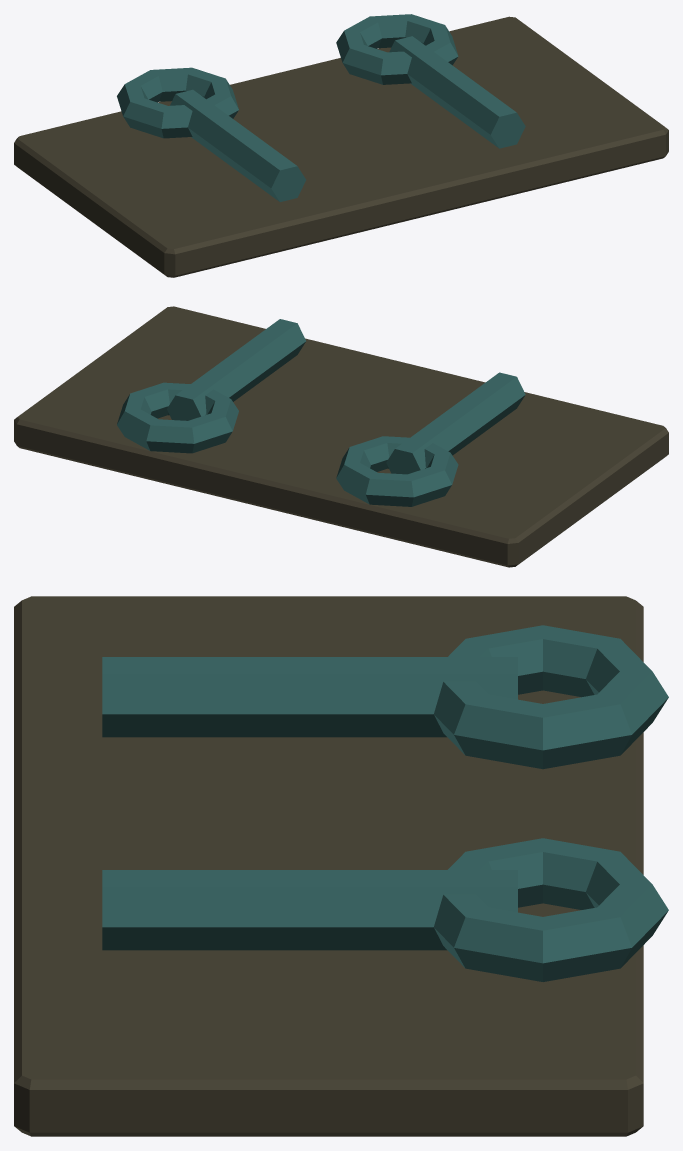
The model's file is repair-tools.glb.
3 renders of one model, top to bottom at view 1: azimuth 30°, elevation 25°; view 2: azimuth 150°, elevation 25°; view 3: azimuth 270°, elevation 25°, orthographic. The views are drawn at different scales.
Parts seen in each view (by area): view 1: repair-tools__body; view 2: repair-tools__body; view 3: repair-tools__body.
Part boxes in pixels (x1,y1,x2,y2): repair-tools__body: [14, 14, 668, 277]; repair-tools__body: [14, 306, 668, 567]; repair-tools__body: [14, 596, 668, 1136].
Size of the model in its own units: 0.46 by 0.0539 by 0.26.
